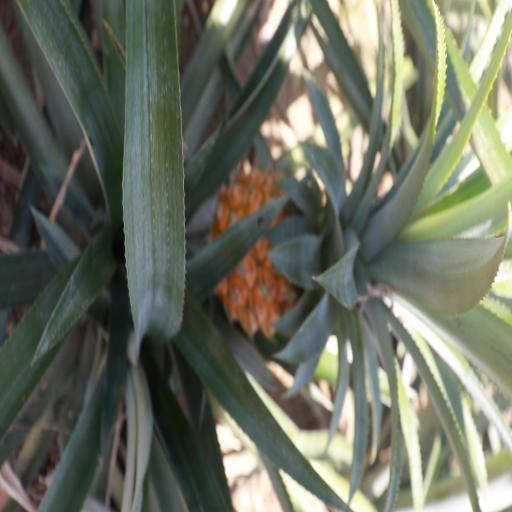Pineapple - v8 v1: (218, 166, 508, 342)
